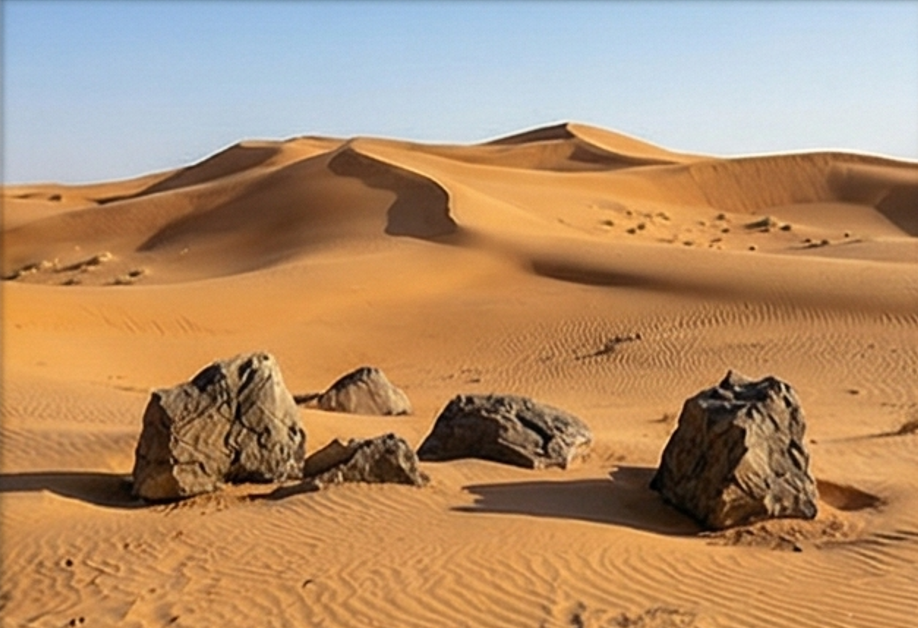rocks: (134, 353, 592, 501), (651, 372, 817, 529), (316, 367, 410, 415)
